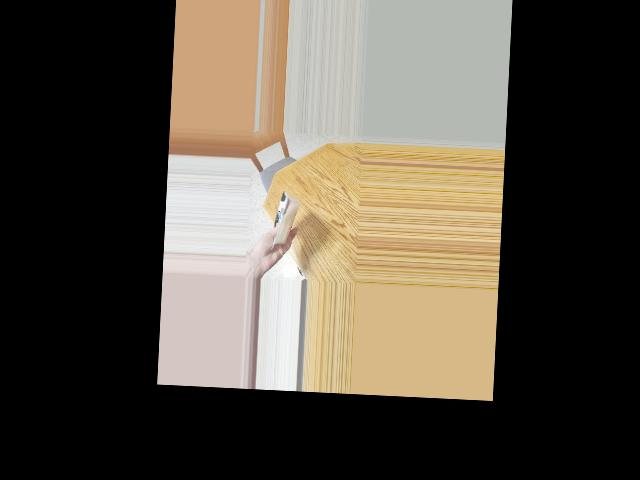cheese: (259, 192, 306, 246)
